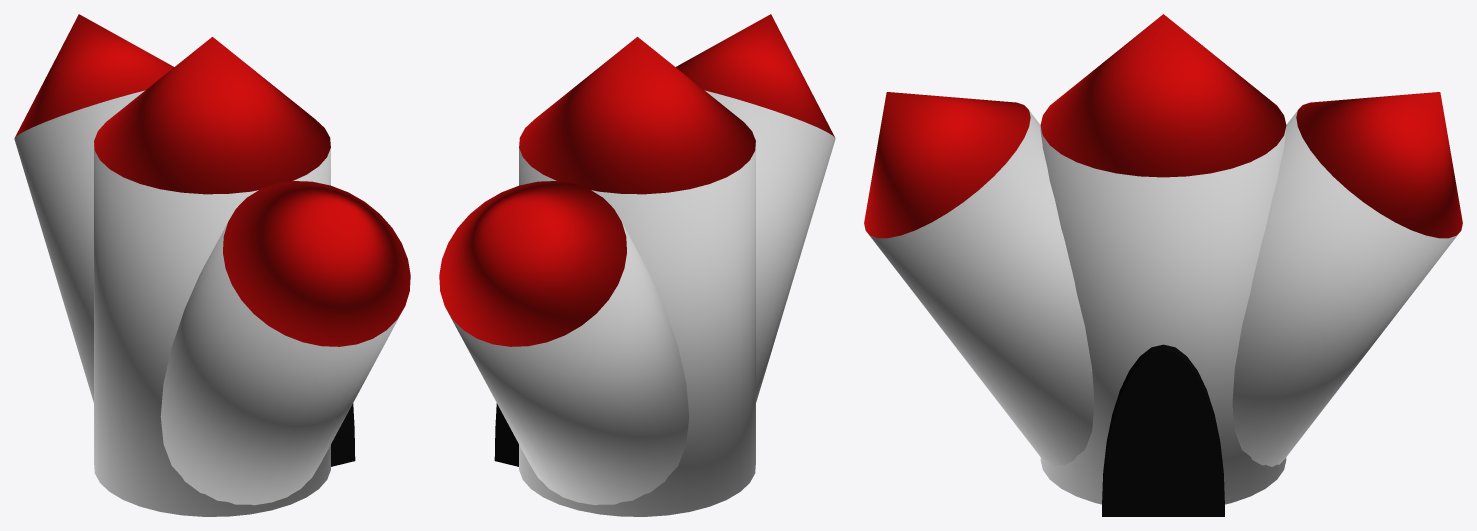
The model's file is circus.obj.
3 renders of one model, left to right at view 1: azimuth 30°, elevation 25°; view 2: azimuth 150°, elevation 25°; view 3: azimuth 270°, elevation 25°, orthographic. The views are drawn at different scales.
Parts seen in each view (by area): view 1: Cone; view 2: Cone; view 3: Cone.
Boxes of the visible parts, box(x1,y1,x2,y2) form: Cone: box(14, 14, 410, 516); Cone: box(439, 14, 835, 516); Cone: box(864, 14, 1462, 516).
Bounding box in the file's own units: 4.2 × 8 × 9.74.
